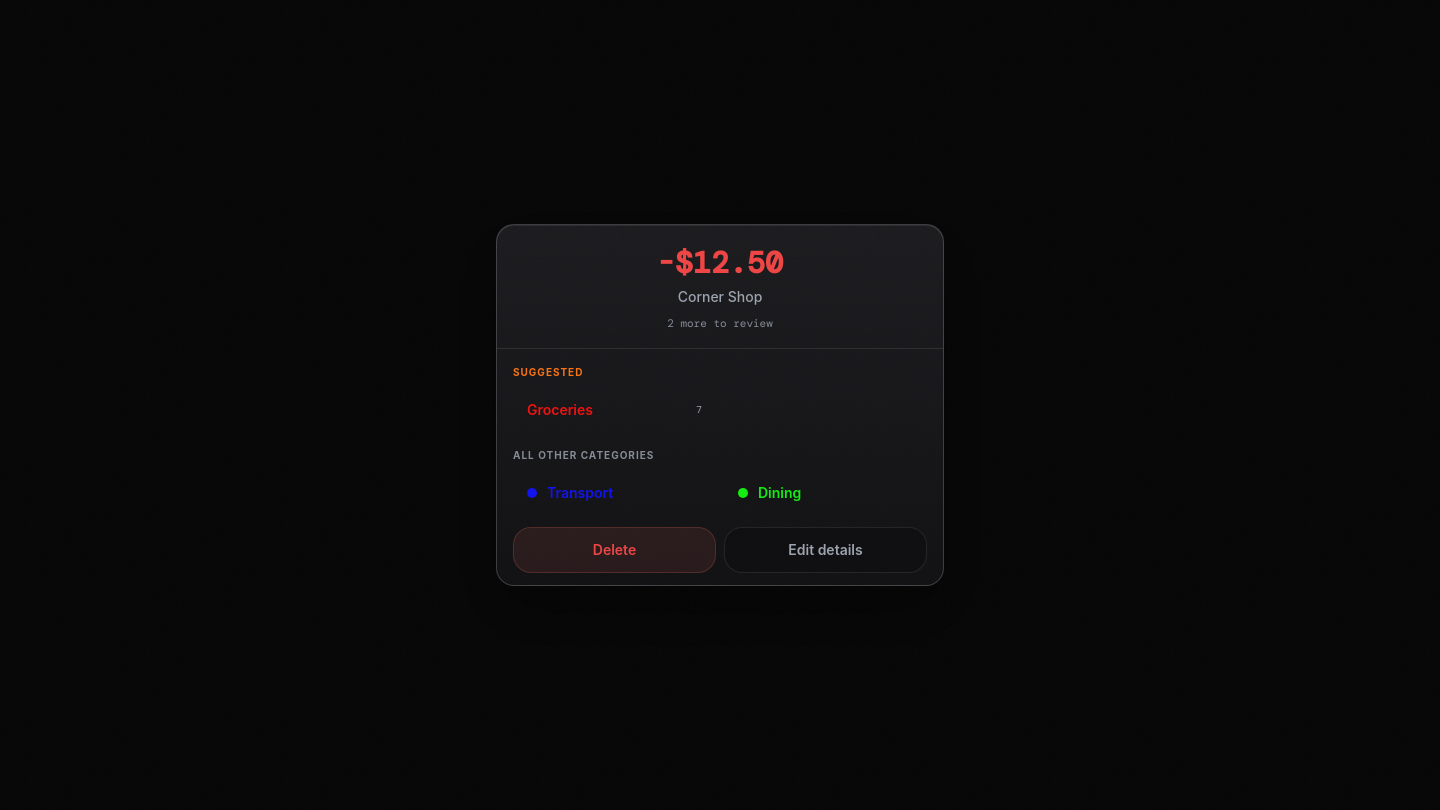
Test: auto-advance › keeps walking forward through the queue
The image size is (1440, 810).
What coordinates should you click on to do the following:
click the button "Groceries 7"
I would click on:
 (614, 410)
Its box is [513, 388, 716, 432].
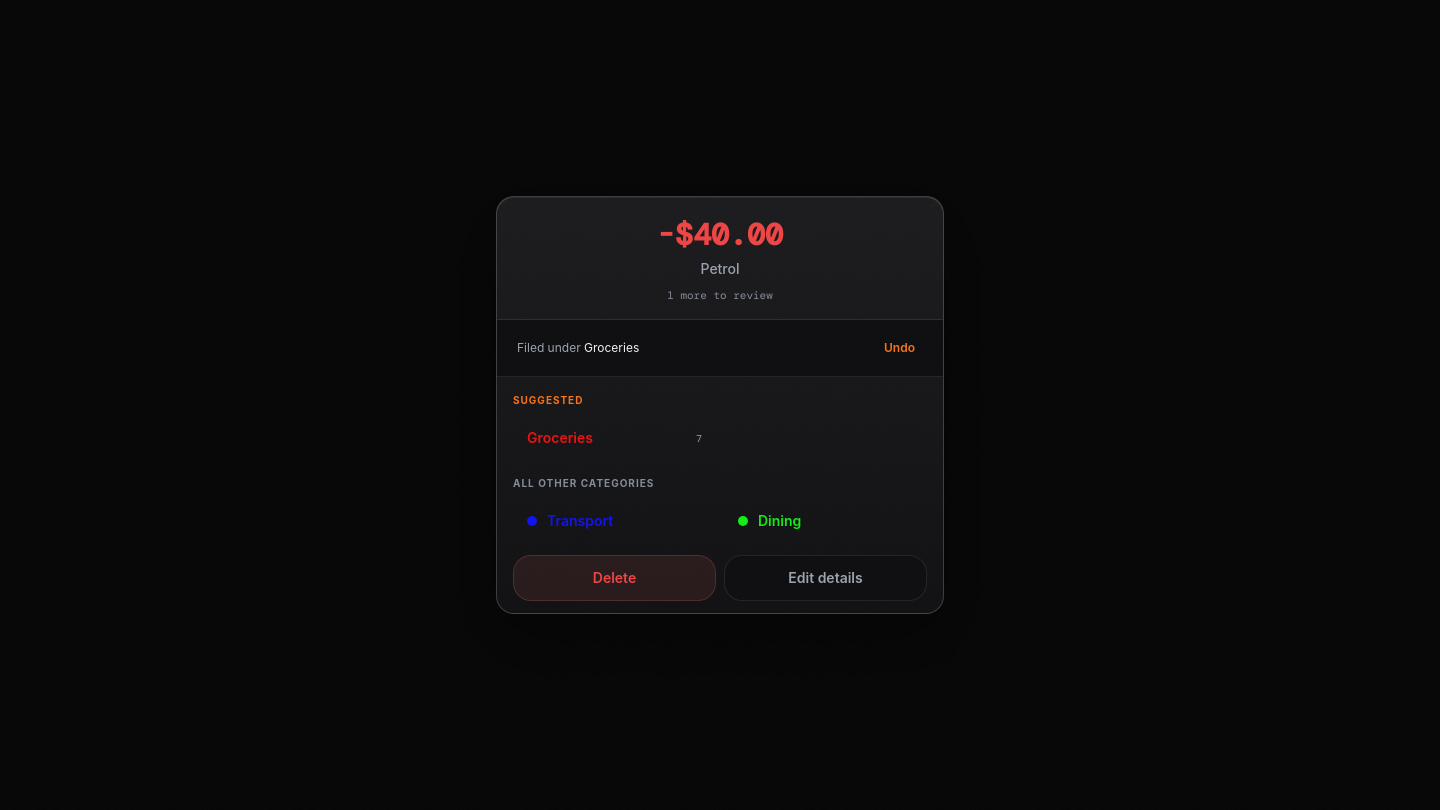
Expected: the text "Petrol" is shown, [700, 260, 740, 277]
What coordinates should you click on to do the following:
click the button "Transport"
I would click on:
 (614, 521)
Its box is [513, 499, 716, 543].
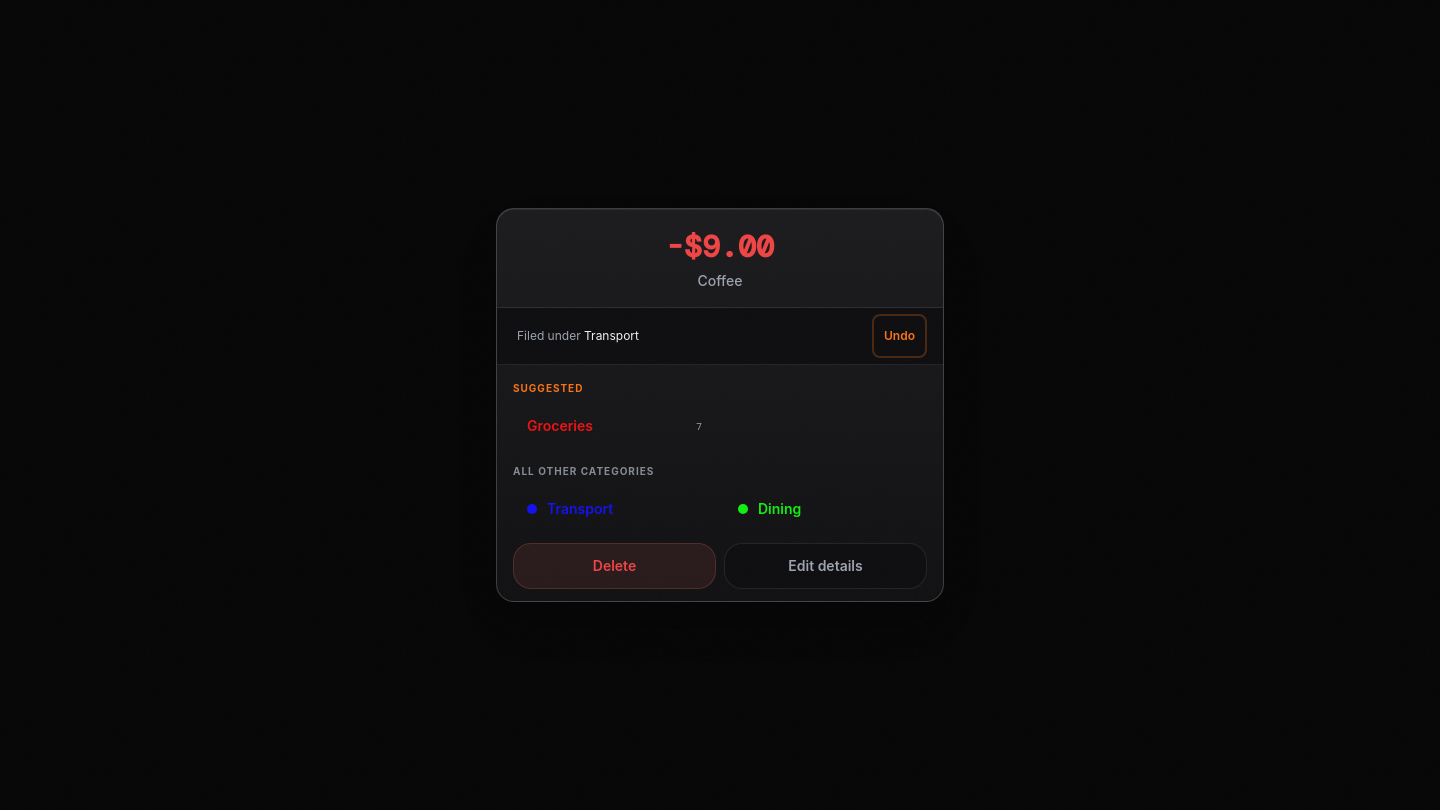
Expected: the text "Coffee" is shown, [698, 272, 742, 289]
